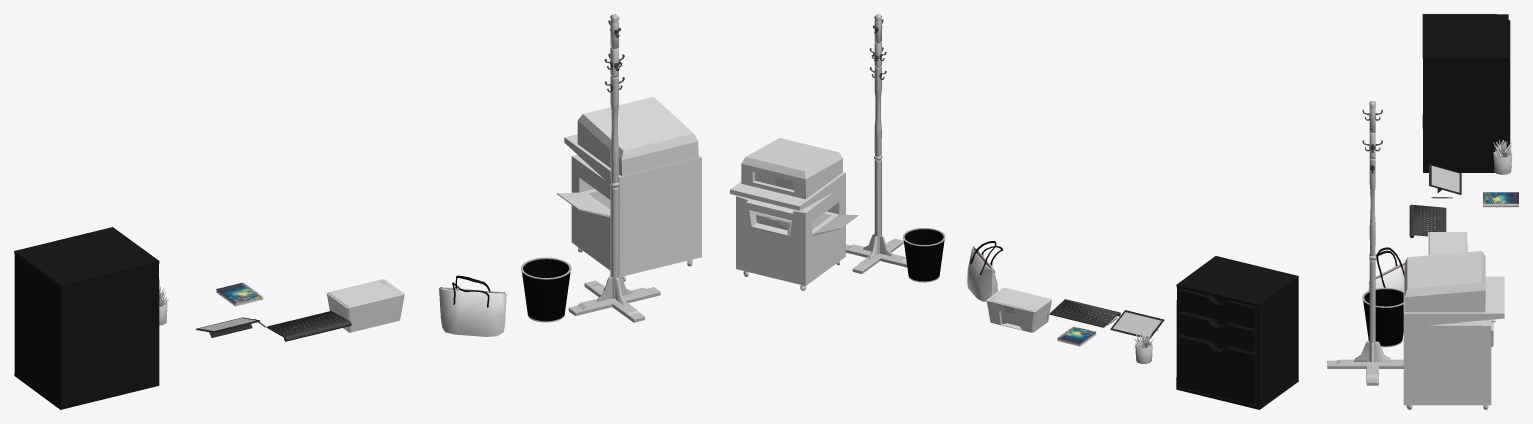
The model's file is OfficeStuff.fbx.
The picture shows the model from 3 angles, left to right: view 1: azimuth 30°, elevation 25°; view 2: azimuth 150°, elevation 25°; view 3: azimuth 270°, elevation 25°; orthographic projection. The views are drawn at different scales.
Visible parts, largest first — view 1: Drawer Clean, FotocopierClean, CoatHangerClean, ClassBag, PrinterCLean, PaperTosserClean, KeyBoardClean, SpiraLBookClean, Tablet_clean; view 2: Drawer Clean, FotocopierClean, CoatHangerClean, PrinterCLean, PaperTosserClean, ClassBag, KeyBoardClean, Tablet_clean, SpiraLBookClean; view 3: FotocopierClean, Drawer Clean, CoatHangerClean, PaperTosserClean, KeyBoardClean, PrinterCLean, ClassBag, Tablet_clean, LowPolyPlantClean, SpiraLBookClean.
Part boxes in pixels (x1,y1,x2,y2): Drawer Clean: (14, 227, 159, 409); FotocopierClean: (557, 97, 701, 281); CoatHangerClean: (568, 14, 660, 322); ClassBag: (439, 275, 506, 336); PrinterCLean: (326, 279, 404, 332); PaperTosserClean: (521, 257, 571, 322); KeyBoardClean: (267, 311, 351, 341); SpiraLBookClean: (216, 282, 263, 306); Tablet_clean: (196, 317, 260, 337); Drawer Clean: (1176, 256, 1298, 409); FotocopierClean: (730, 138, 858, 290); CoatHangerClean: (846, 14, 907, 273); PrinterCLean: (986, 287, 1051, 332); PaperTosserClean: (902, 228, 945, 282); ClassBag: (967, 241, 1002, 301); KeyBoardClean: (1049, 299, 1120, 327); Tablet_clean: (1110, 310, 1164, 339); SpiraLBookClean: (1057, 326, 1096, 346); FotocopierClean: (1403, 251, 1504, 409); Drawer Clean: (1422, 14, 1510, 172); CoatHangerClean: (1327, 101, 1403, 385); PaperTosserClean: (1362, 287, 1403, 347); KeyBoardClean: (1409, 204, 1446, 237); PrinterCLean: (1428, 232, 1467, 255); ClassBag: (1368, 247, 1404, 290); Tablet_clean: (1429, 164, 1461, 194); LowPolyPlantClean: (1493, 139, 1512, 174); SpiraLBookClean: (1482, 192, 1518, 207).
Bounding box in the file's own units: 1654 × 726 × 474.
